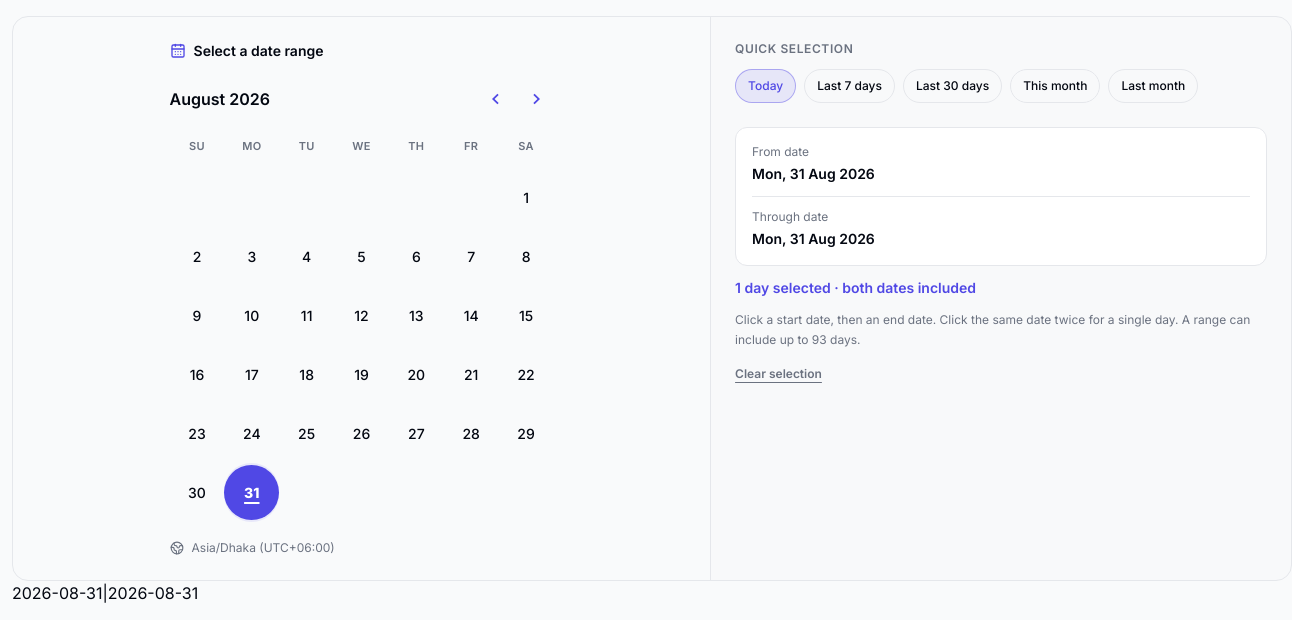
it: PlacementDateRangePicker › replaces date inputs with a two-click inclusive range
This screenshot has width=1292, height=620.
Click the button named "August 10th, 2026". click: (252, 316)
box: x1=224 y1=288 x2=279 y2=343
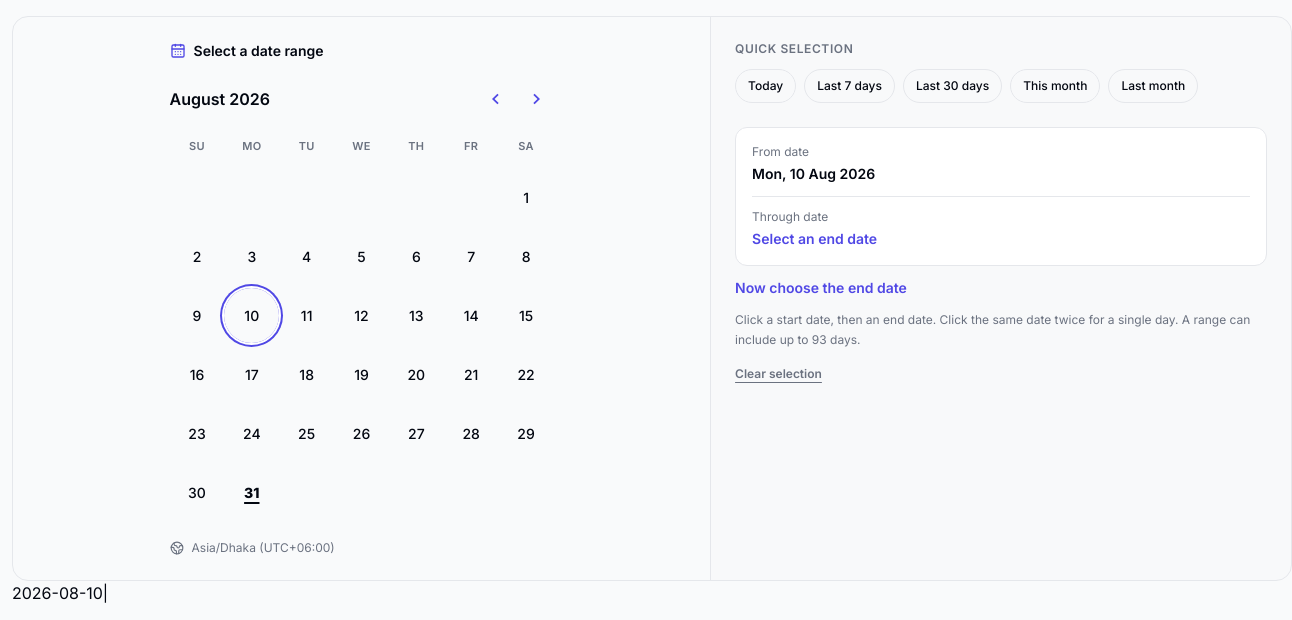
Expected: the text named "Selected range" reads "2026-08-10|", x1=12 y1=583 x2=103 y2=603
Expected: the text "Now choose the end date" is shown, x1=735 y1=279 x2=907 y2=296
Click the button named "August 20th, 2026". click: (416, 375)
box: x1=389 y1=347 x2=444 y2=402
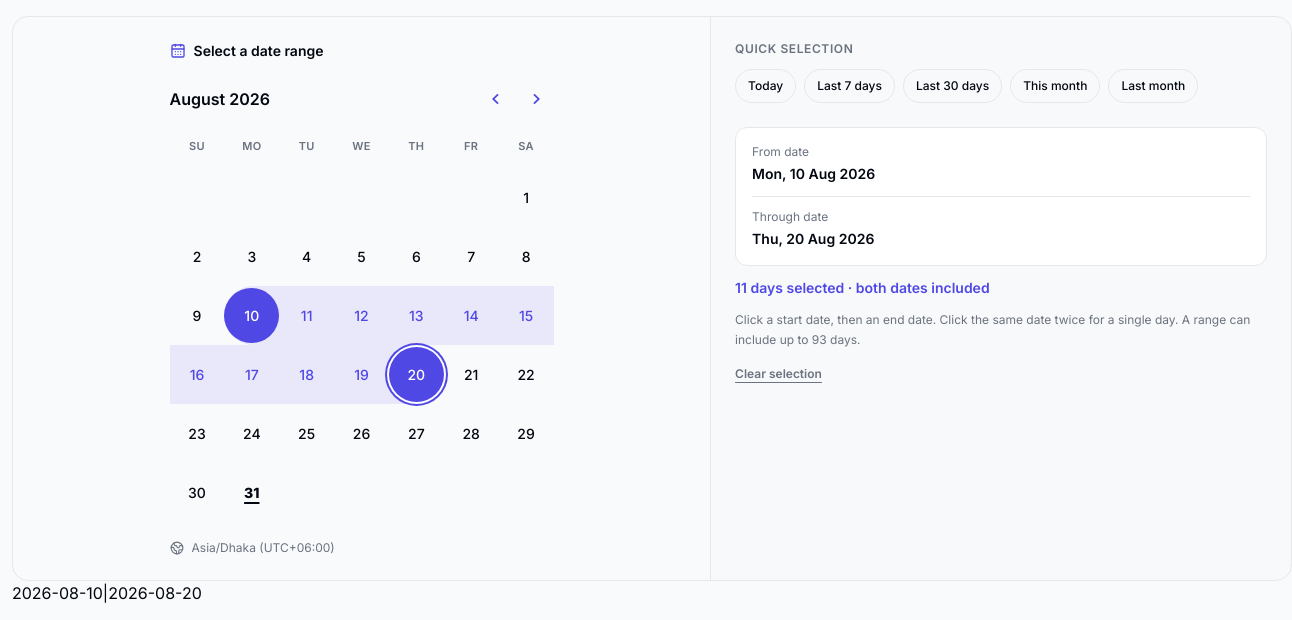
Expected: the text named "Selected range" reads "2026-08-10|2026-08-20", x1=12 y1=583 x2=103 y2=603
Expected: the text "11 days selected · both dates included" is shown, x1=735 y1=279 x2=990 y2=296
